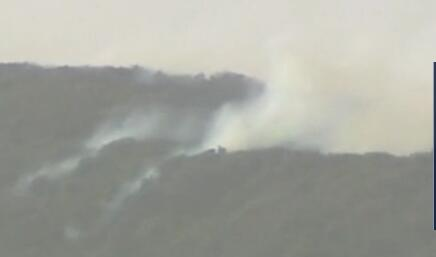yanwu: (169, 1, 435, 168), (16, 93, 208, 192)
